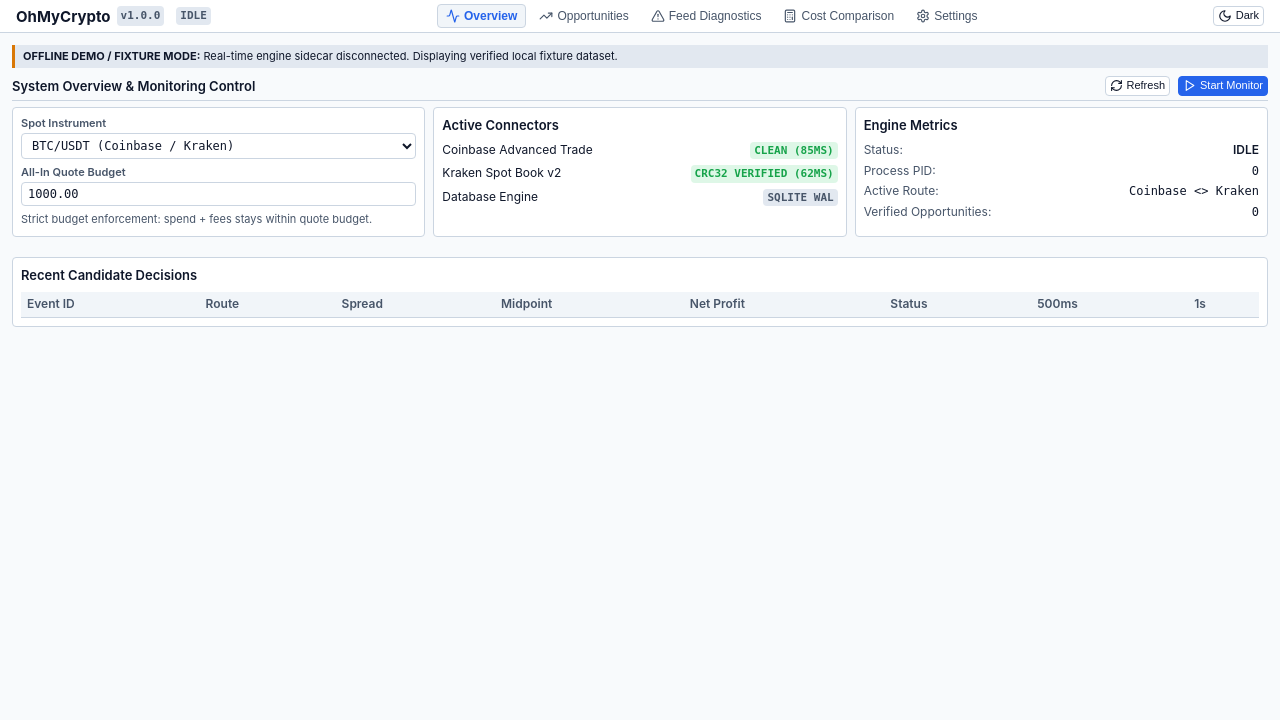
OhMyCrypto Desktop UI › switches to Cost Comparison view and toggles buy/sell
Click the button "Cost Comparison" at (839,16), box 774,4 -> 903,28
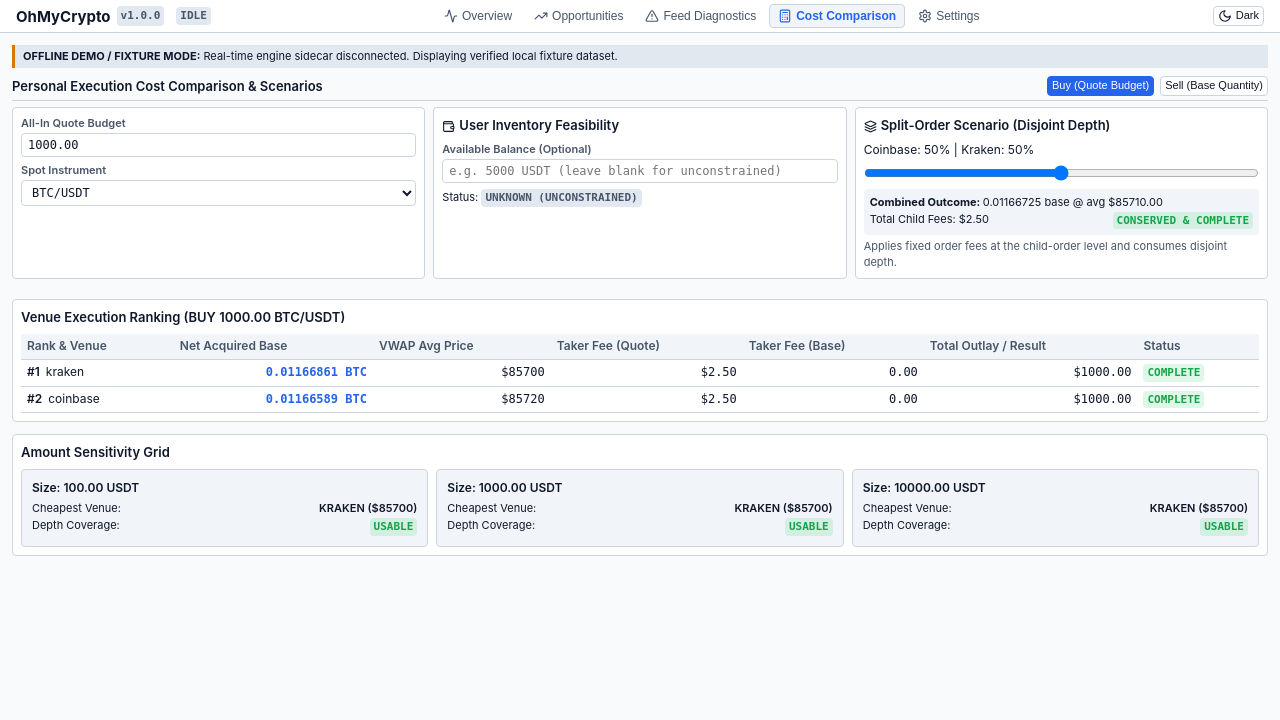
Result: the heading "Personal Execution Cost Comparison & Scenarios" is shown at 12,77 -> 323,95
# Test Sell toggle
Click the button "Sell (Base Quantity)" at (1214,86), box 1160,76 -> 1268,96
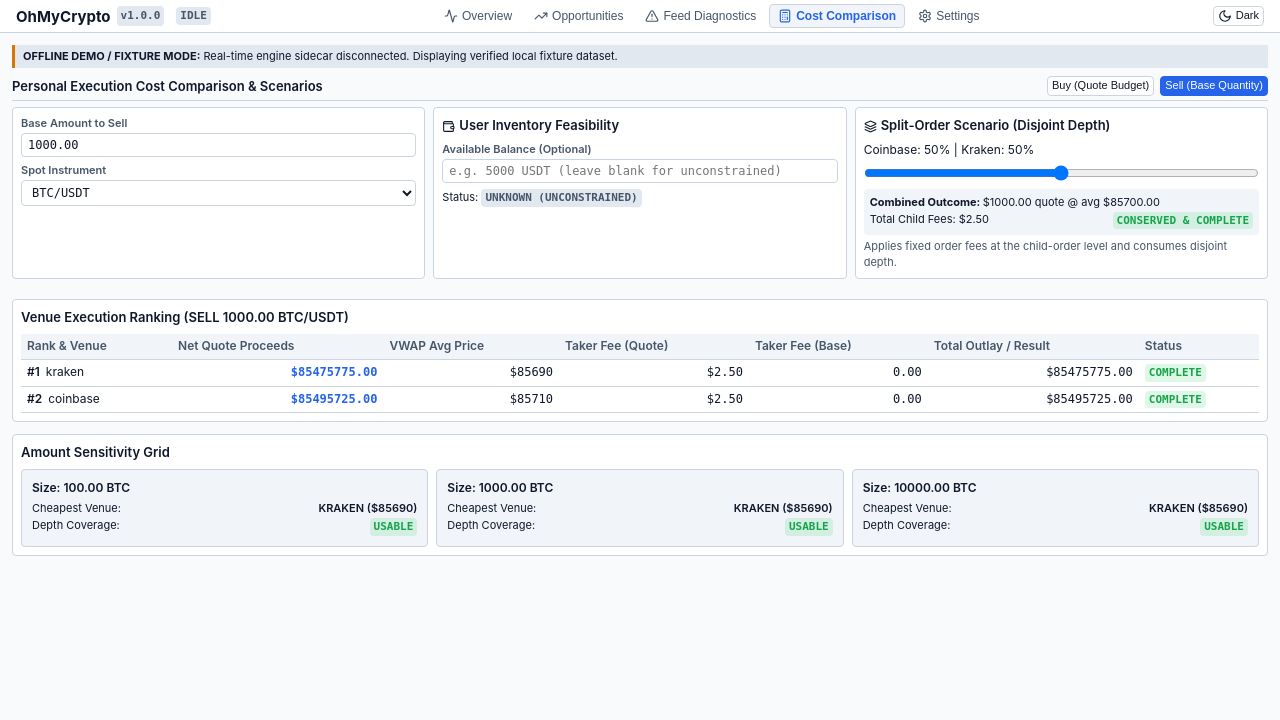
Result: the text "Base Amount to Sell" is shown at 21,116 -> 127,130
